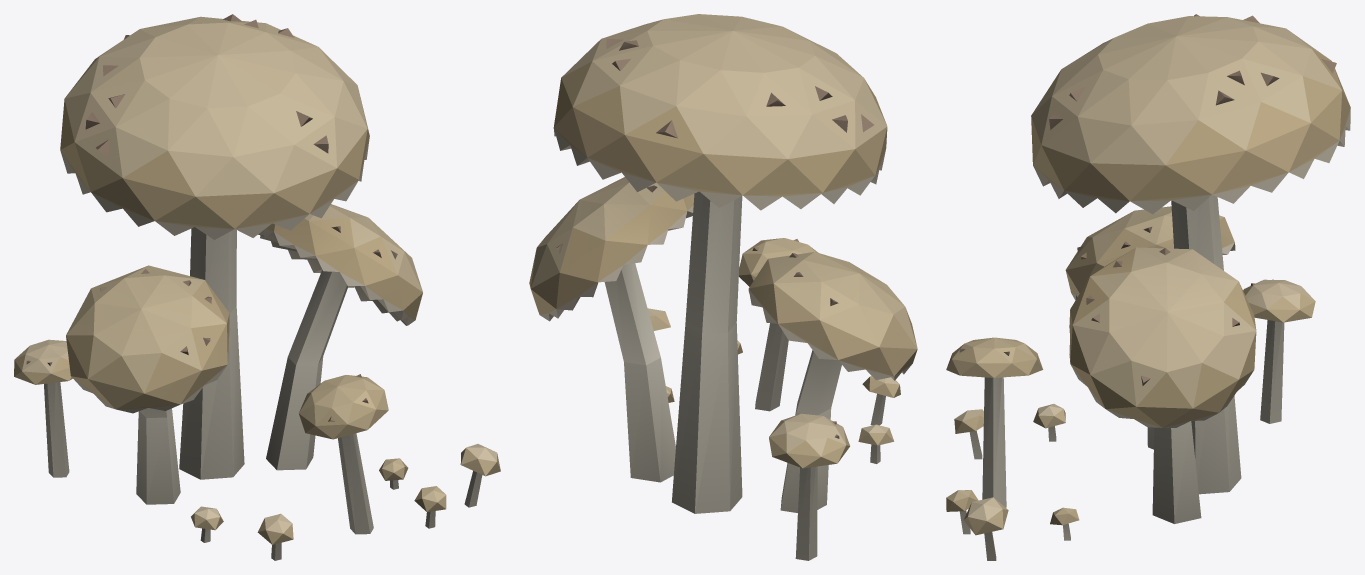
The model's file is mushroom.glb.
3 renders of one model, left to right at view 1: azimuth 30°, elevation 25°; view 2: azimuth 150°, elevation 25°; view 3: azimuth 270°, elevation 25°, orthographic. The views are drawn at different scales.
Visible parts, largest first — view 1: mushroom; view 2: mushroom; view 3: mushroom.
Boxes of the visible parts, <box> form: mushroom: <box>14,14,500,560</box>; mushroom: <box>529,14,917,560</box>; mushroom: <box>946,14,1350,560</box>.
Size of the model in its own units: 1.6 by 1.92 by 1.6.
